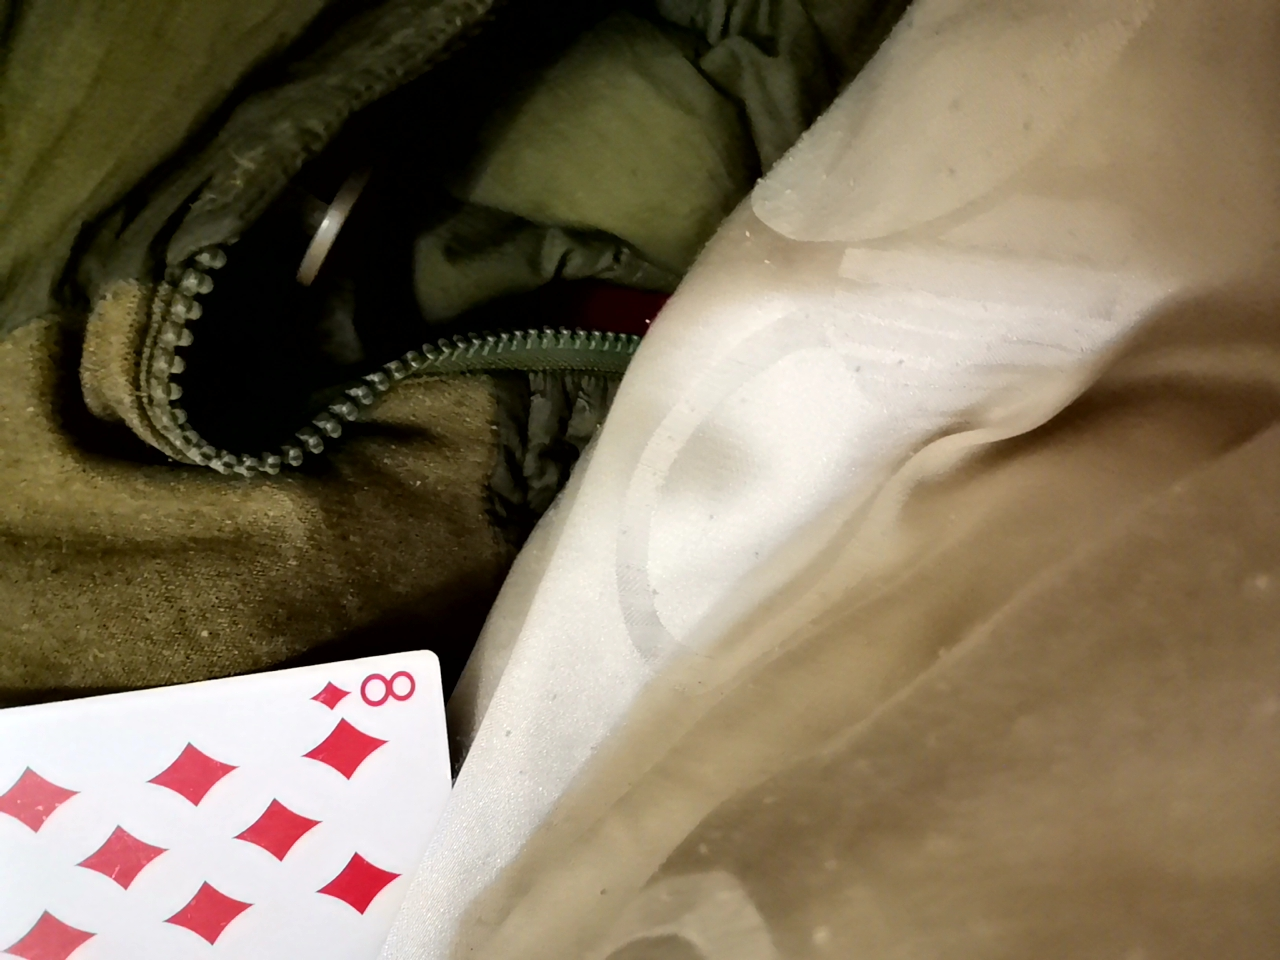fk 8: (1, 650, 488, 960)
